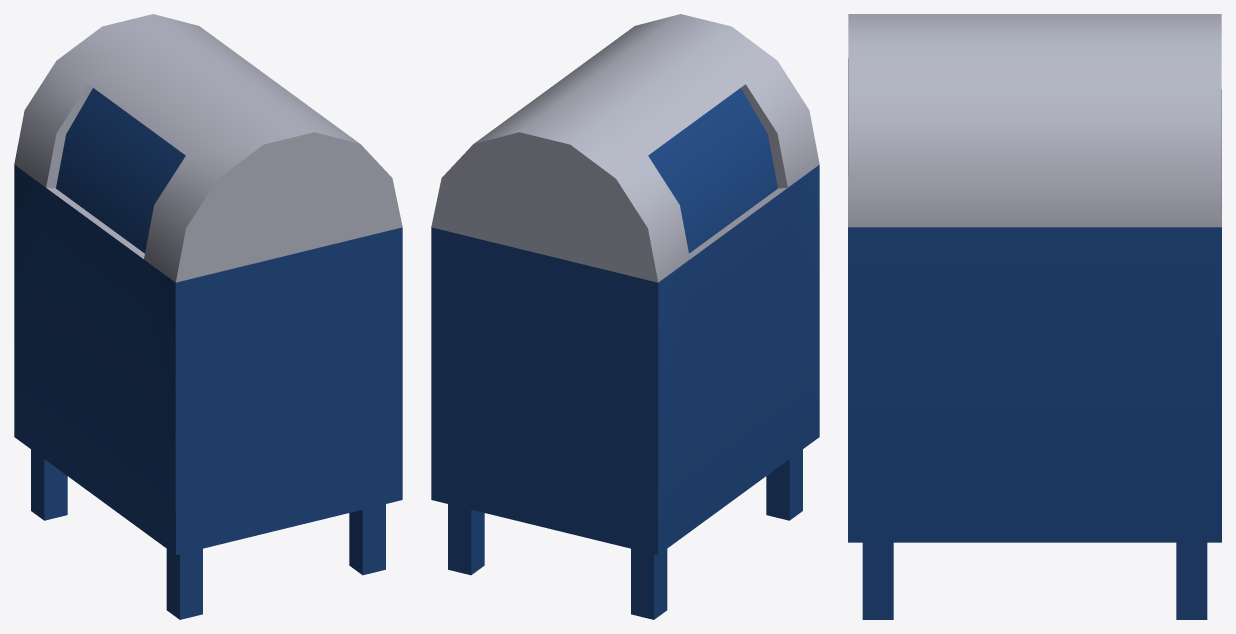
File: mailBox.fbx
3 renders of one model, left to right at view 1: azimuth 30°, elevation 25°; view 2: azimuth 150°, elevation 25°; view 3: azimuth 270°, elevation 25°, orthographic. The views are drawn at different scales.
Parts seen in each view (by area): view 1: sptp_mail_box_01; view 2: sptp_mail_box_01; view 3: sptp_mail_box_01.
Part boxes in pixels (x1,y1,x2,y2): sptp_mail_box_01: (14, 14, 402, 619); sptp_mail_box_01: (431, 14, 819, 619); sptp_mail_box_01: (848, 14, 1221, 619).
Bounding box in the file's own units: 59.88 × 116 × 73.81.
Materials: 1 (1 with a texture image).
